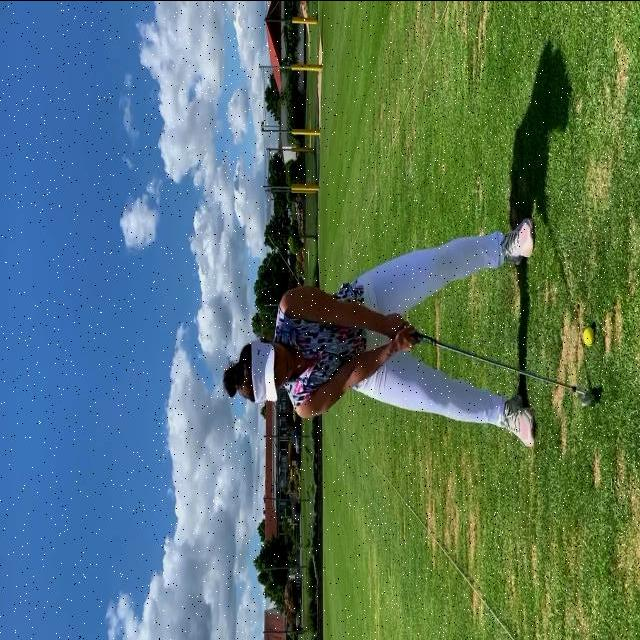golf ball: (584, 325, 594, 345)
golf club-handle: (413, 330, 595, 405)
golf club-head: (581, 390, 595, 405)
